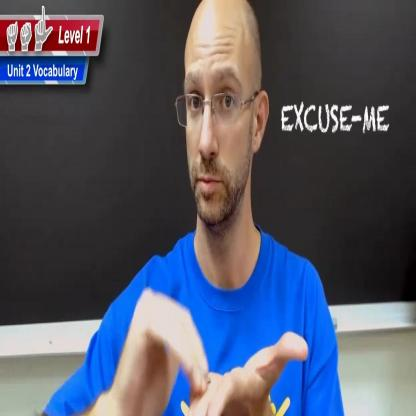ExcuseMe: (102, 278, 312, 416)
